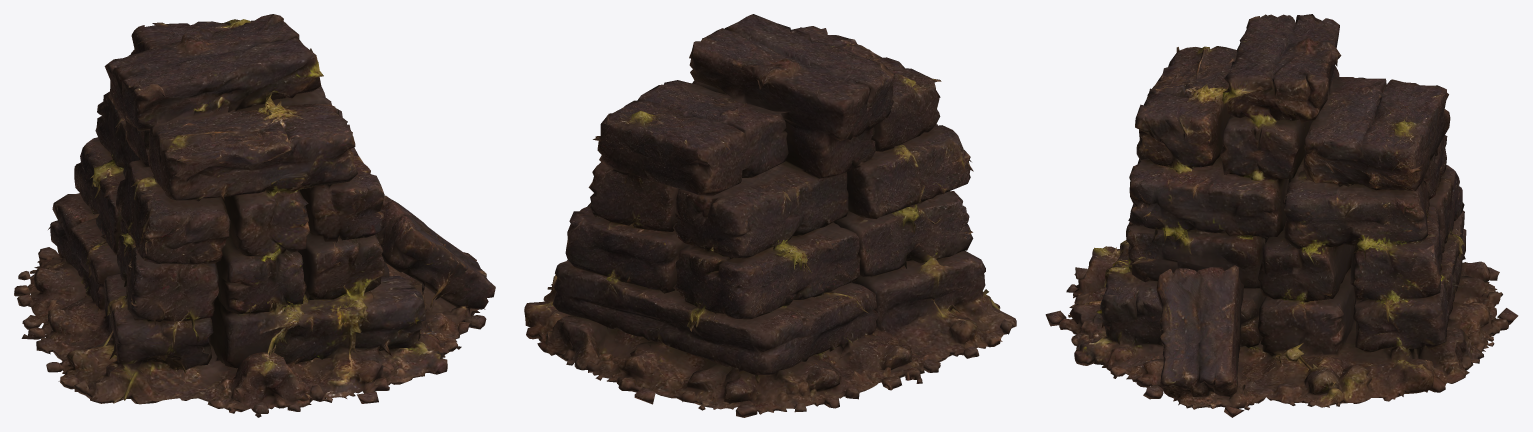
File: peat_stack_tripo.glb
The picture shows the model from 3 angles, left to right: view 1: azimuth 30°, elevation 25°; view 2: azimuth 150°, elevation 25°; view 3: azimuth 270°, elevation 25°; orthographic projection. The views are drawn at different scales.
Visible parts, largest first — view 1: tripo_node_855ca2b0-f01a-4010-8f94-ae111d7cb701; view 2: tripo_node_855ca2b0-f01a-4010-8f94-ae111d7cb701; view 3: tripo_node_855ca2b0-f01a-4010-8f94-ae111d7cb701.
Part boxes in pixels (x1,y1,x2,y2): tripo_node_855ca2b0-f01a-4010-8f94-ae111d7cb701: [14, 14, 495, 417]; tripo_node_855ca2b0-f01a-4010-8f94-ae111d7cb701: [524, 14, 1016, 417]; tripo_node_855ca2b0-f01a-4010-8f94-ae111d7cb701: [1045, 14, 1518, 417].
Size of the model in its own units: 0.9929 by 0.6222 by 1.
Materials: 1 (1 with a texture image).
